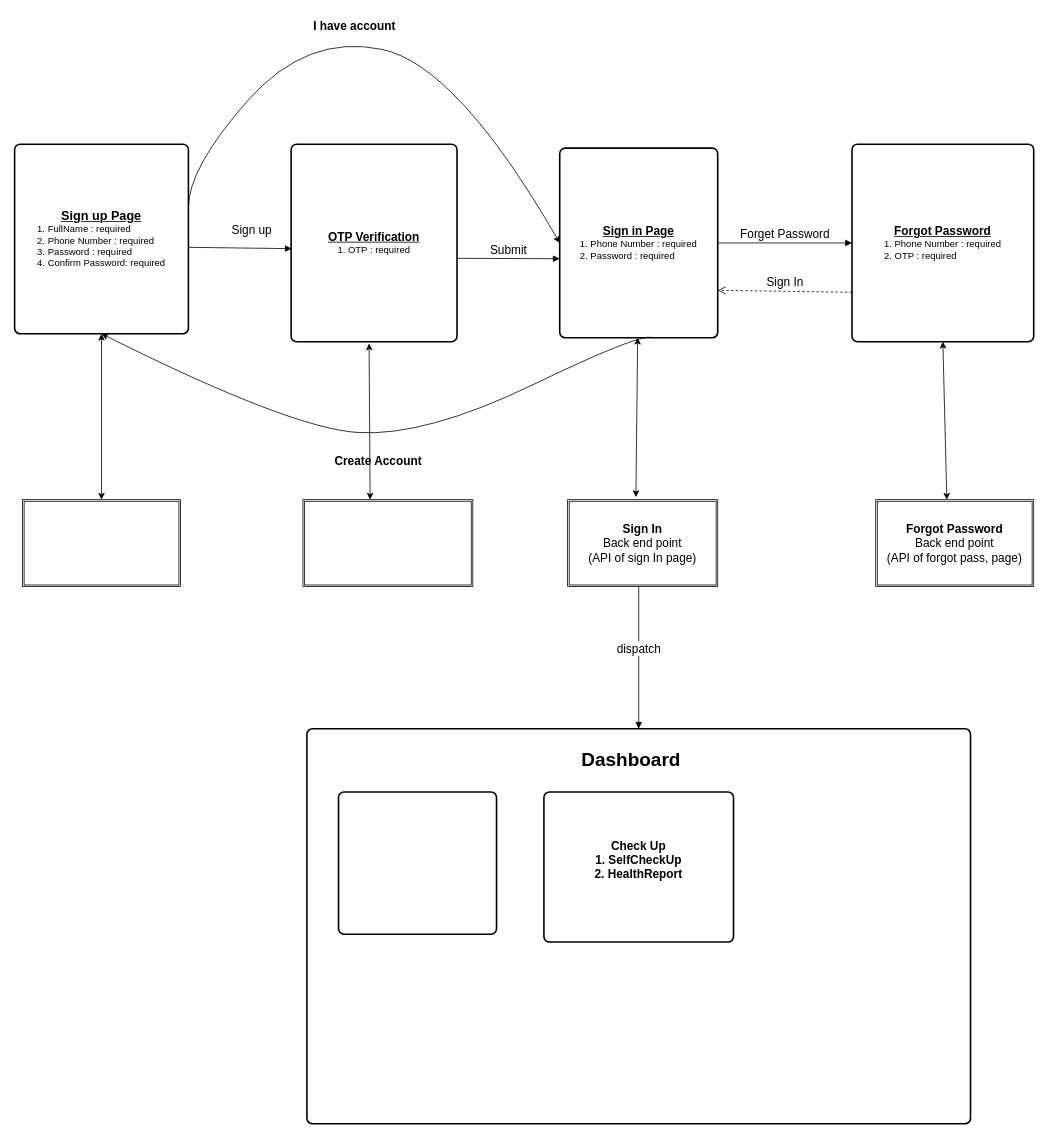
Some shapes in this 1048 by 1138 pixel diagram are drawn without their labels. The box of each missing label's shape, as (x1, y1, x2, y2) in pixels:
Nav Bar Home Search Message Notification Profile Logout: (337, 791, 497, 935)
OTP verification Back end point (API of OTP page): (302, 499, 473, 587)
Sign Up Back end point (API of sign up page): (22, 499, 181, 587)
